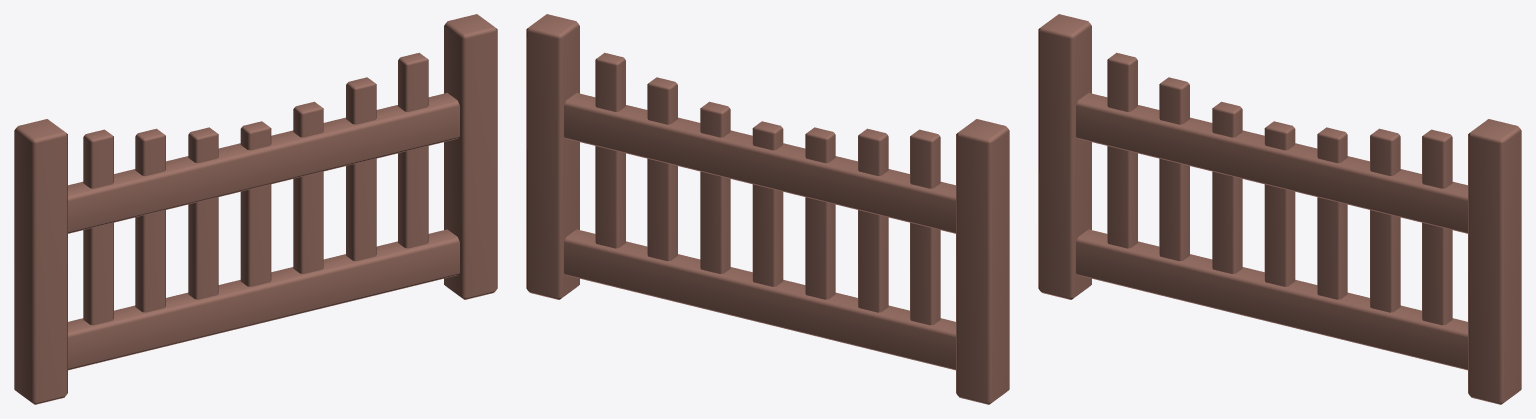
File: Town_13_Fence_1.glb
3 renders of one model, left to right at view 1: azimuth 30°, elevation 25°; view 2: azimuth 150°, elevation 25°; view 3: azimuth 330°, elevation 25°, orthographic.
Parts seen in each view (by area): view 1: Town_13_Fence_1; view 2: Town_13_Fence_1; view 3: Town_13_Fence_1.
Boxes of the visible parts, box(x1,y1,x2,y2) form: Town_13_Fence_1: box(14, 14, 497, 404); Town_13_Fence_1: box(526, 14, 1009, 404); Town_13_Fence_1: box(1038, 14, 1521, 404).
Size of the model in its own units: 3.16 by 1.73 by 0.2482.
Materials: 1 (1 with a texture image).
